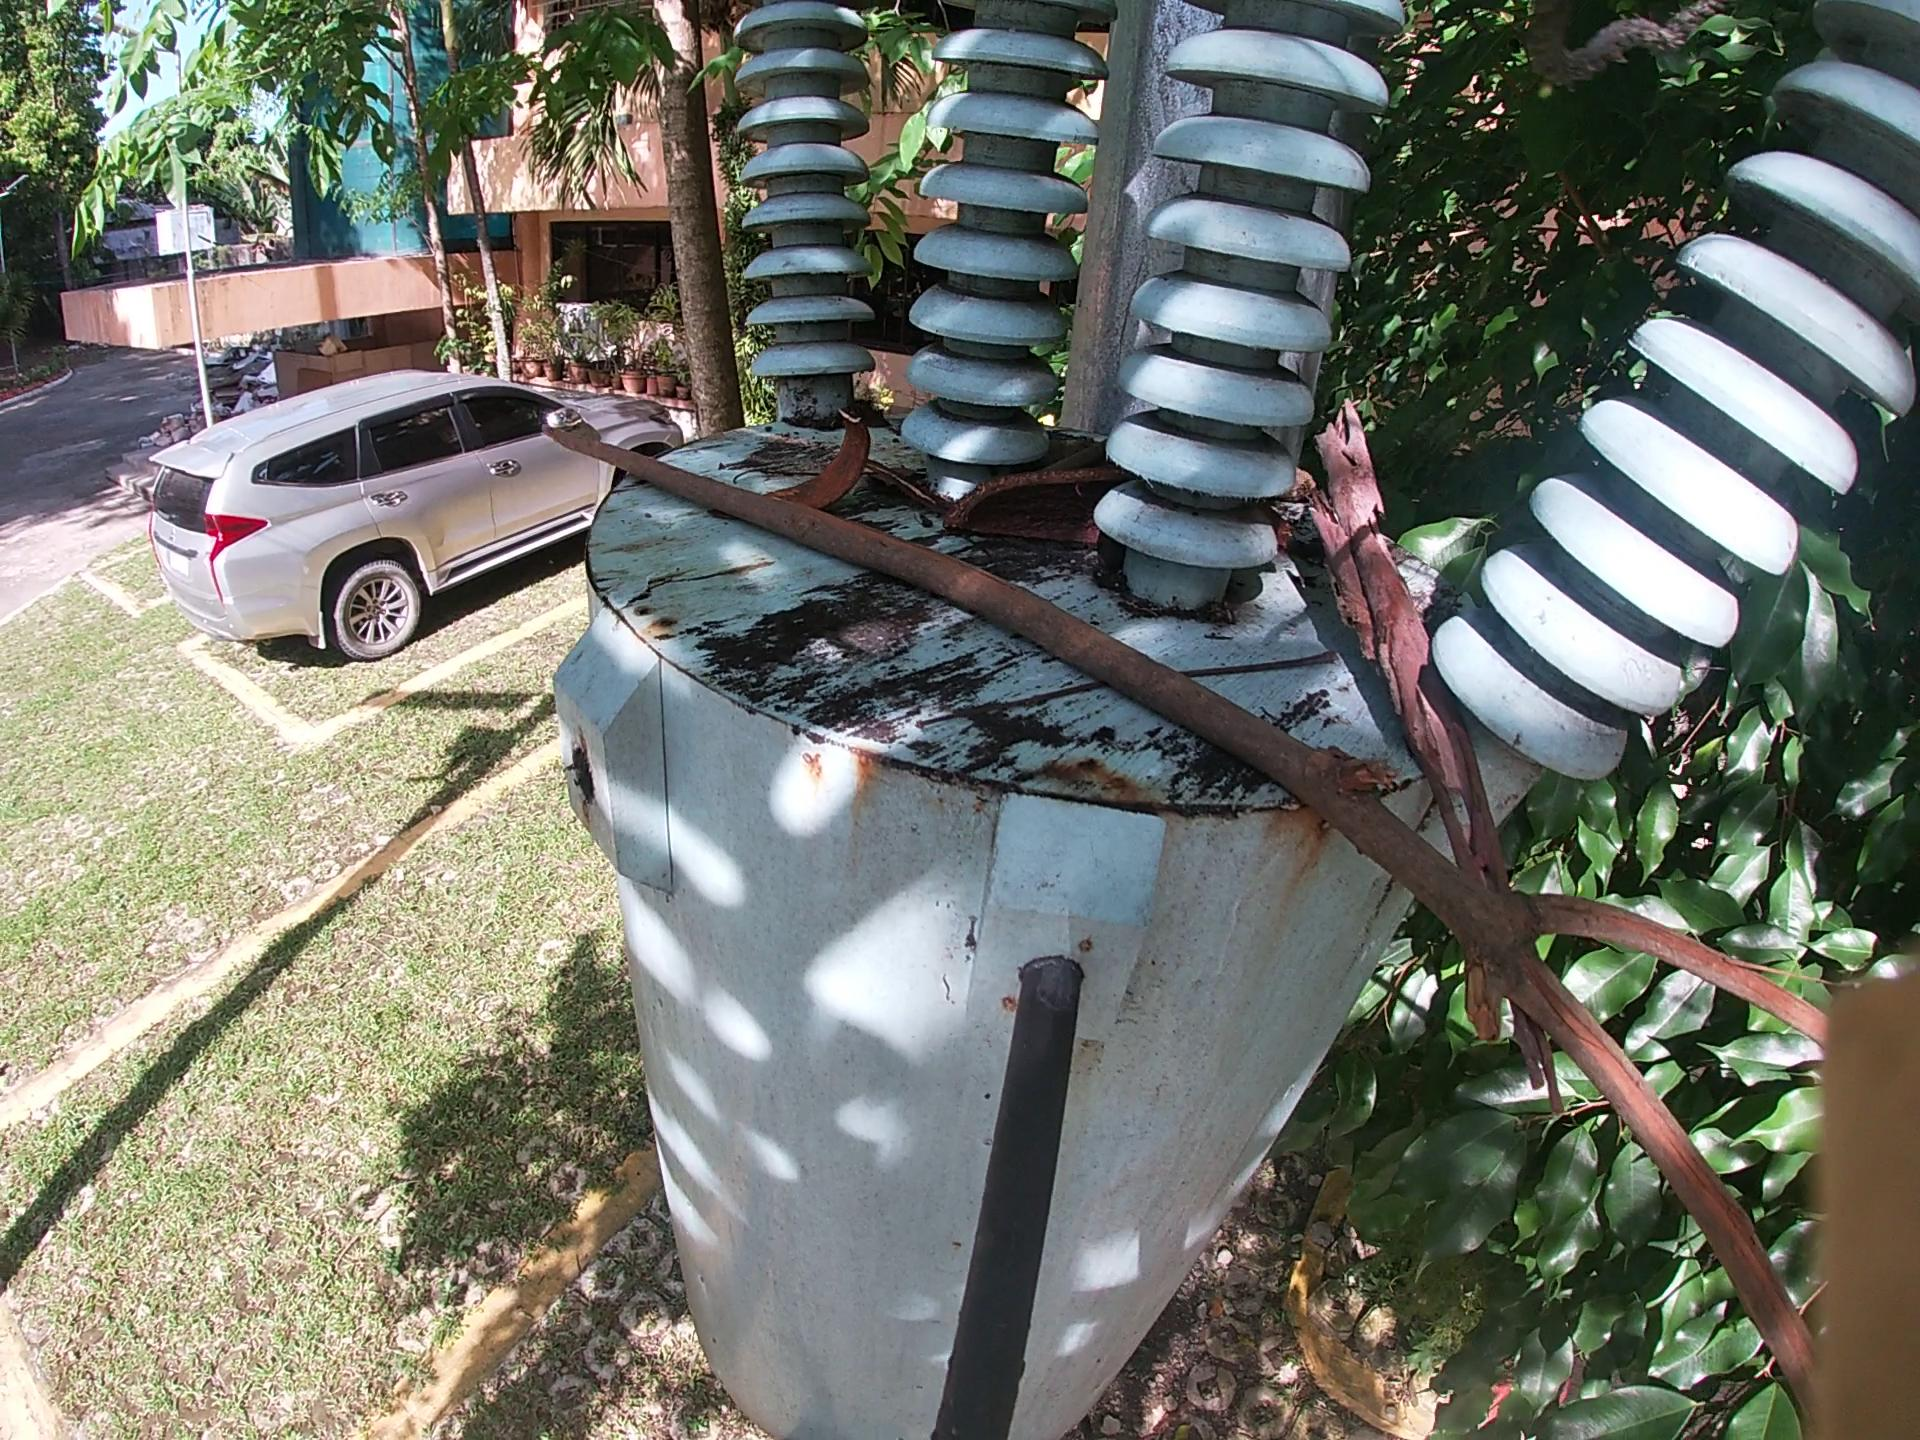mahogany fruit: (933, 472, 1146, 542), (783, 414, 897, 504)
tree branch: (543, 408, 1872, 1435), (1281, 408, 1578, 1124), (889, 644, 1341, 728), (883, 448, 943, 514), (1048, 430, 1128, 472), (729, 463, 822, 486), (1057, 451, 1098, 470)
